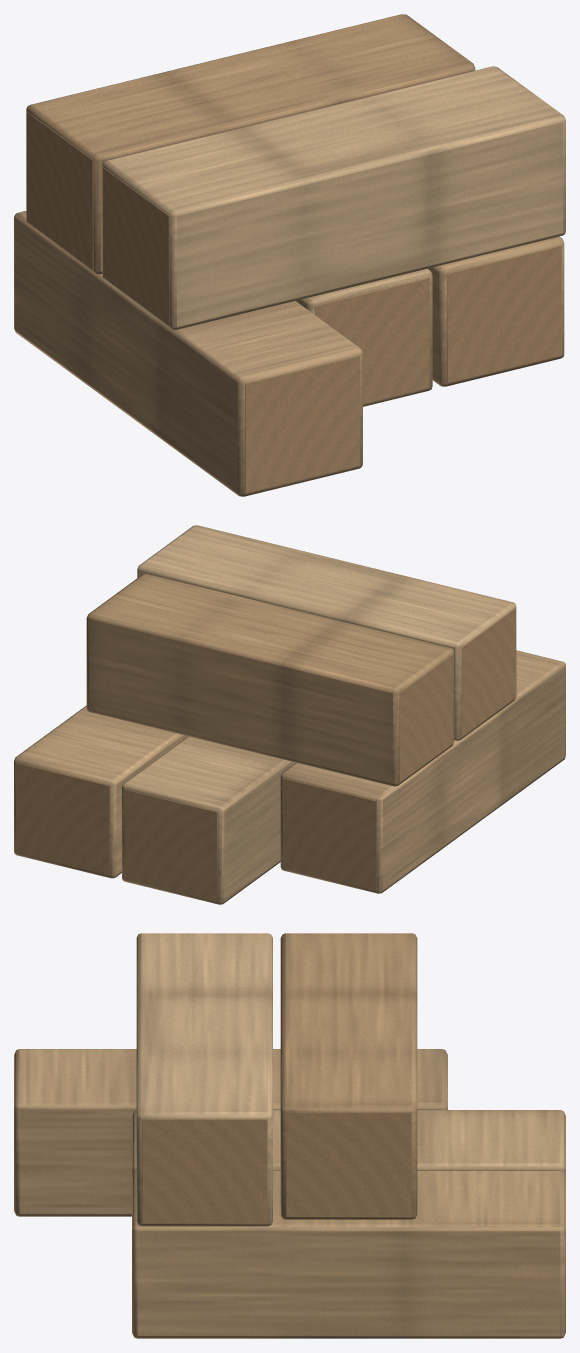
The model's file is 6-crossed-block-layers-3-1.fbx.
The picture shows the model from 3 angles, top to bottom: view 1: azimuth 30°, elevation 25°; view 2: azimuth 150°, elevation 25°; view 3: azimuth 270°, elevation 25°; orthographic projection. The views are drawn at different scales.
Visible parts, largest first — view 1: crossed-block-layers-3-1; view 2: crossed-block-layers-3-1; view 3: crossed-block-layers-3-1.
Boxes of the visible parts, <box> form: crossed-block-layers-3-1: <box>14,14,565,496</box>; crossed-block-layers-3-1: <box>14,525,565,904</box>; crossed-block-layers-3-1: <box>14,933,565,1338</box>.
Bounding box in the file's own units: 5515 × 3200 × 7015.
1 material, 1 textured.
